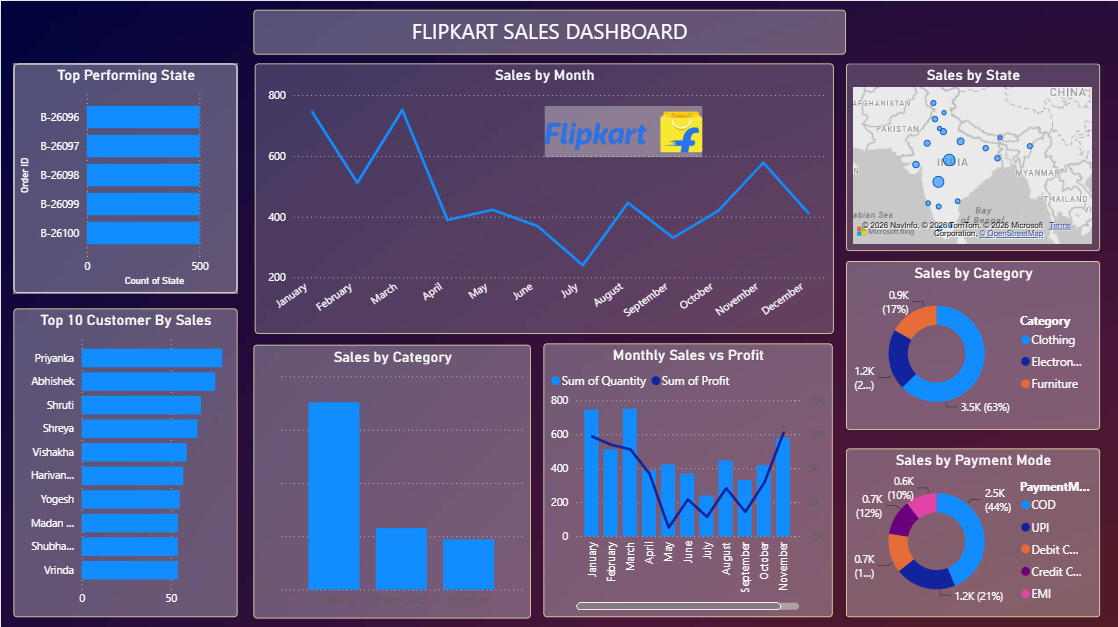

This screenshot's page, from the dashboard's own definition file:
{"tool":"powerbi","page":{"name":"Page 1","canvas":[1280,720],"ordinal":0},"visuals":[{"type":"clusteredBarChart","title":"Top Performing State","fields":{"Category":["Details.Order ID"],"Y":["CountNonNull(Orders.State)"]},"box":[13.8,71.2,256.2,262.5],"z":0},{"type":"lineChart","title":"Sales by Month","fields":{"Category":["Orders.Order Date.Variation.Date Hierarchy.Month"],"Y":["Sum(Details.Quantity)"]},"box":[290,71.4,661.4,308.6],"z":1000},{"type":"clusteredColumnChart","title":"Sales by Category","fields":{"Category":["Details.Category"],"Y":["Sum(Details.Quantity)"]},"box":[288.6,392.9,317.1,312.9],"z":2000},{"type":"map","title":"Sales by State","fields":{"Category":["Orders.State"],"Size":["Sum(Details.Quantity)"]},"box":[965.7,71.4,290,214.3],"z":3000},{"type":"barChart","title":"Top 10 Customer By Sales ","fields":{"Category":["Orders.CustomerName"],"Y":["Sum(Details.Quantity)"]},"box":[14.3,351.4,255.7,352.9],"z":4000},{"type":"lineClusteredColumnComboChart","title":"Monthly Sales vs Profit","fields":{"Y":["Sum(Details.Quantity)"],"Y2":["Sum(Details.Profit)"],"Category":["Orders.Order Date.Variation.Date Hierarchy.Month"]},"box":[620,391.4,330,312.9],"z":5000},{"type":"donutChart","title":"Sales by Category","fields":{"Y":["Sum(Details.Quantity)"],"Category":["Details.Category"]},"box":[965.7,297.1,290,192.9],"z":6000},{"type":"donutChart","title":"Sales by Payment Mode","fields":{"Category":["Details.PaymentMode"],"Y":["Sum(Details.Quantity)"]},"box":[965.7,511.4,290,192.9],"z":7000},{"type":"textbox","box":[288.6,10,677.1,51.4],"z":8000},{"type":"image","box":[621.2,120,180,58.8],"z":9000}]}

Visuals, with their boxes in screenshot pixels (x1, y1, x2, y2), scaled from the page's 1280x720 canvas onto the 1118x627 screenshot:
"Top Performing State" clusteredBarChart: crop(12, 62, 236, 291)
"Sales by Month" lineChart: crop(253, 62, 831, 331)
"Sales by Category" clusteredColumnChart: crop(252, 342, 529, 615)
"Sales by State" map: crop(843, 62, 1097, 249)
"Top 10 Customer By Sales " barChart: crop(12, 306, 236, 613)
"Monthly Sales vs Profit" lineClusteredColumnComboChart: crop(542, 341, 830, 613)
"Sales by Category" donutChart: crop(843, 259, 1097, 427)
"Sales by Payment Mode" donutChart: crop(843, 445, 1097, 613)
textbox: crop(252, 9, 843, 53)
image: crop(543, 104, 700, 156)
